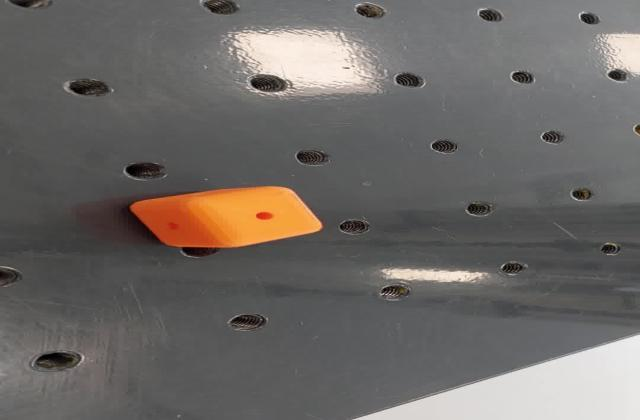cube: (123, 183, 332, 249)
